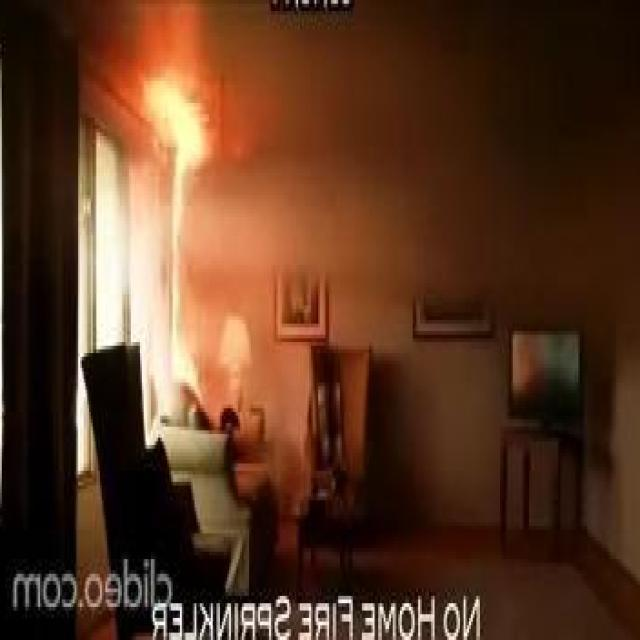smoke: (171, 88, 209, 383), (146, 70, 217, 129)
